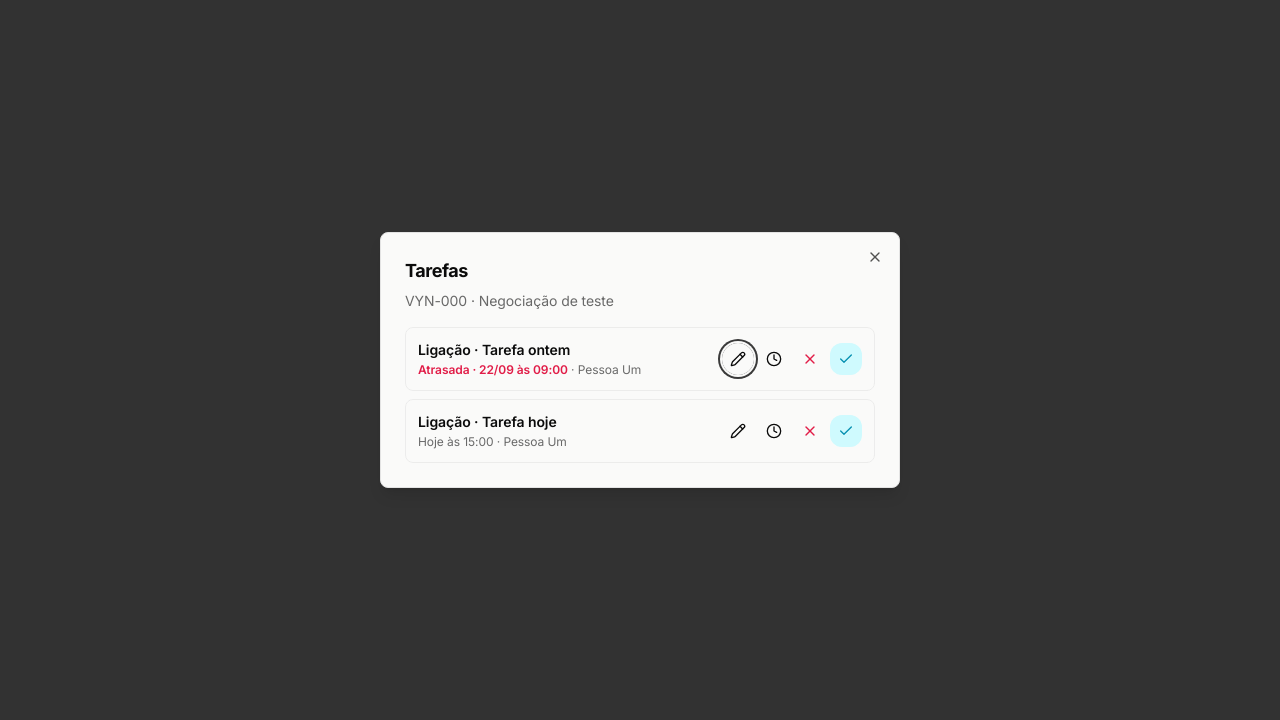
atalho: modal das tarefas › editar abre o formulário dos detalhes com a tarefa
Click the button named "Editar tarefa" in the row of "Tarefa hoje": (738, 431) [722,415,754,447]
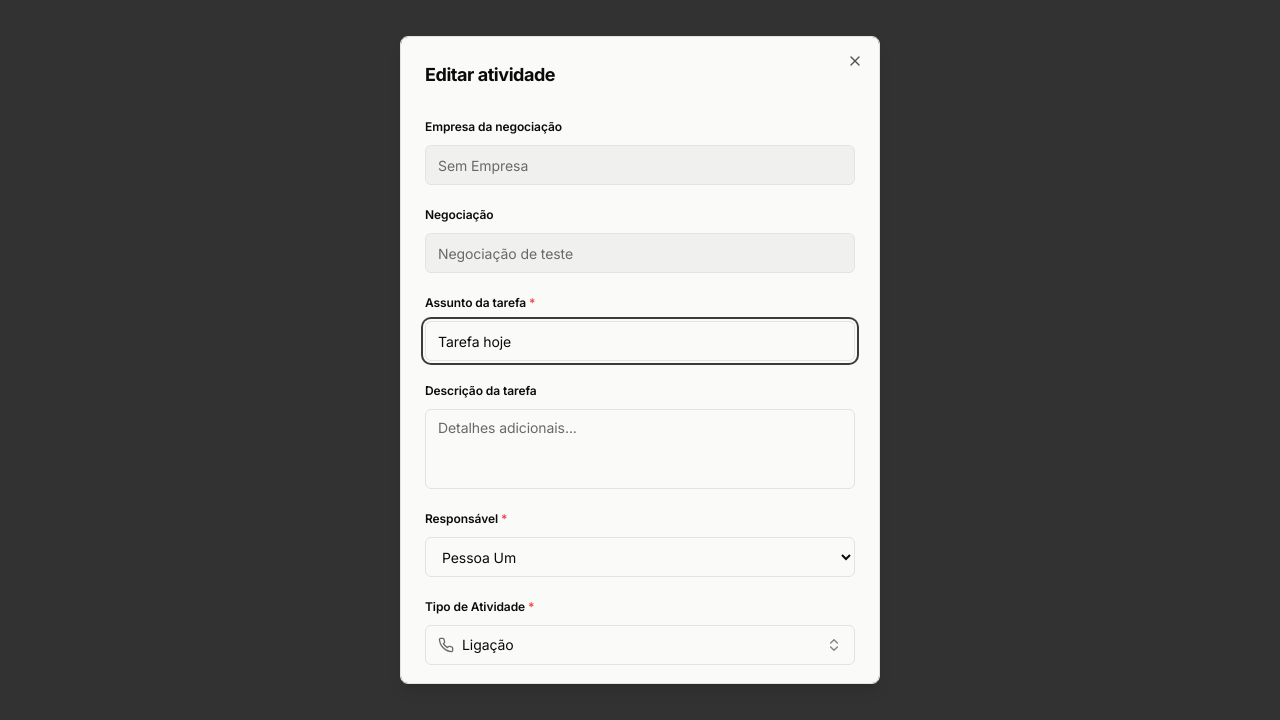
Expected: the field with placeholder "Ex: Ligação inicial, Follow Up..." below "Assunto da tarefa" holds "Tarefa hoje", [425,321,855,361]
